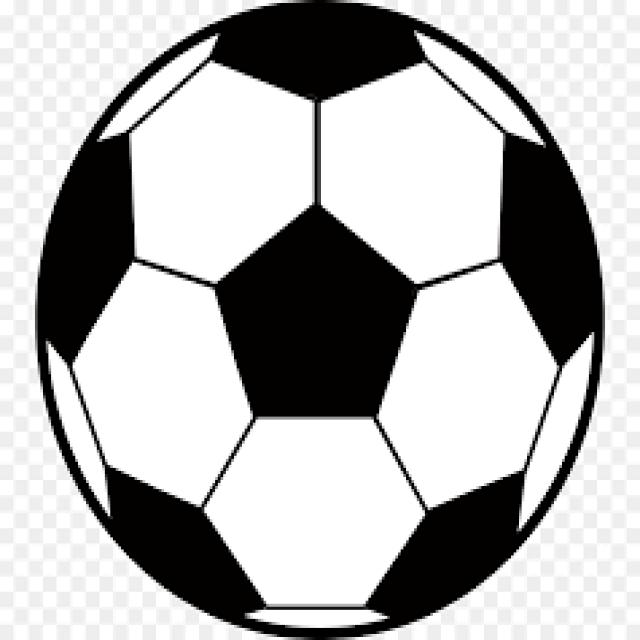football: (32, 3, 605, 637)
